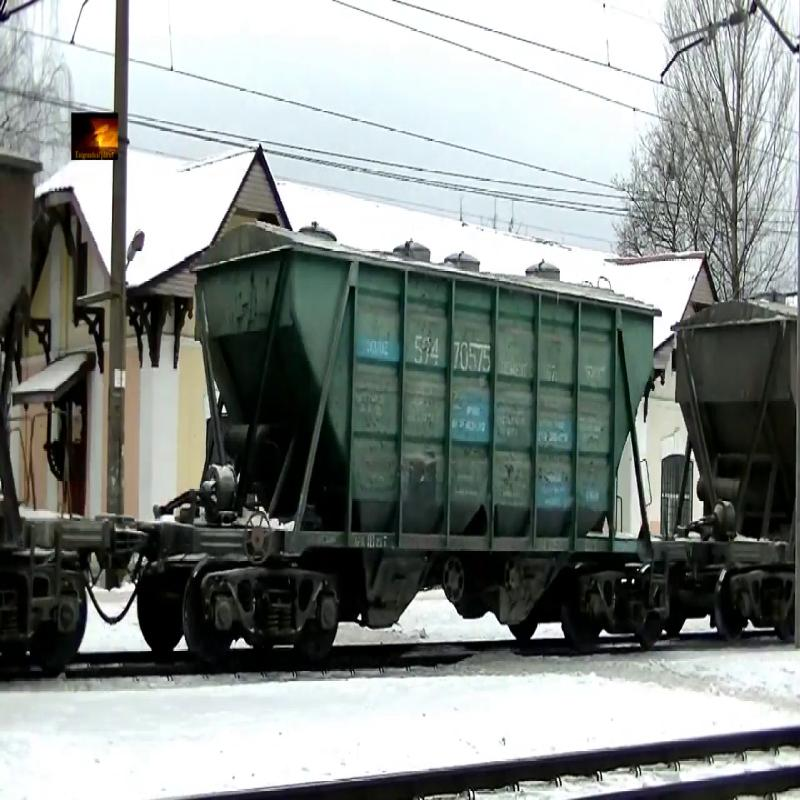train: (164, 222, 683, 664)
